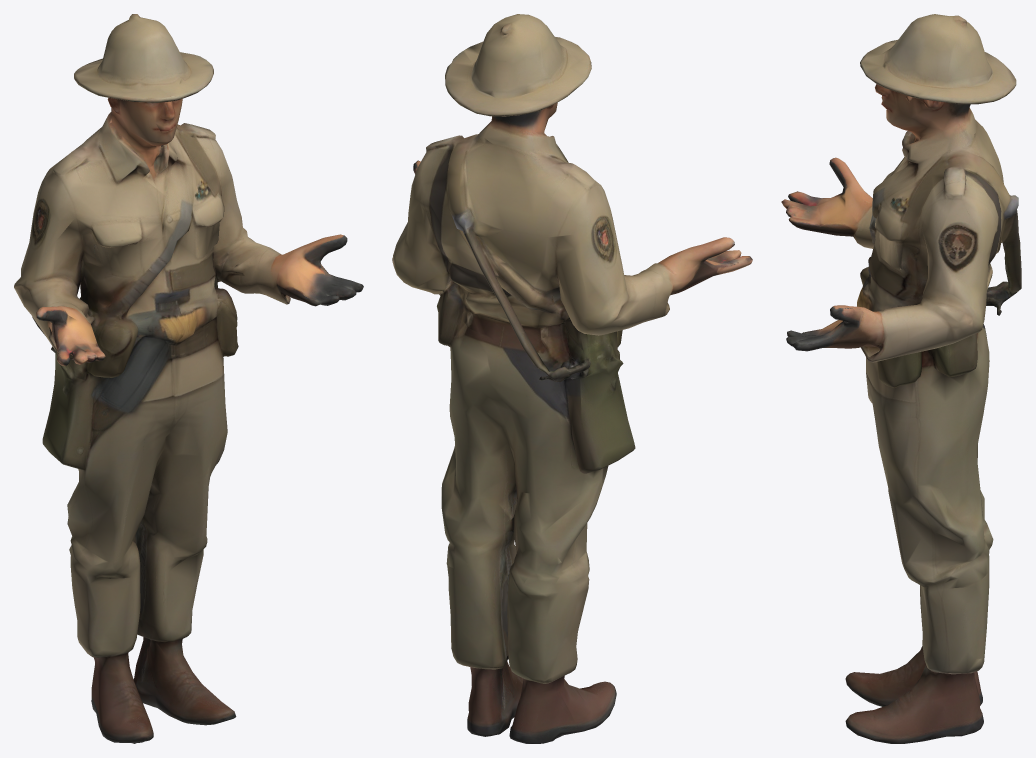
The model's file is FrenchSoldier.glb.
3 renders of one model, left to right at view 1: azimuth 30°, elevation 25°; view 2: azimuth 150°, elevation 25°; view 3: azimuth 270°, elevation 25°, orthographic. The views are drawn at different scales.
Size of the model in its own units: 0.9437 by 2 by 0.6203.
1 material, 1 textured.
